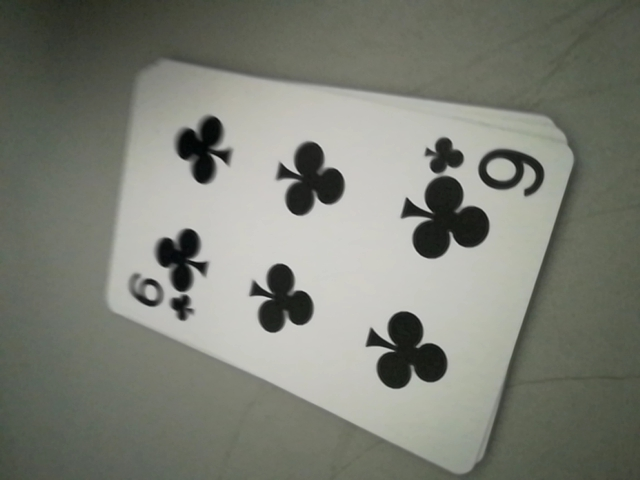mh 6: (423, 135, 549, 191), (122, 271, 195, 327)
